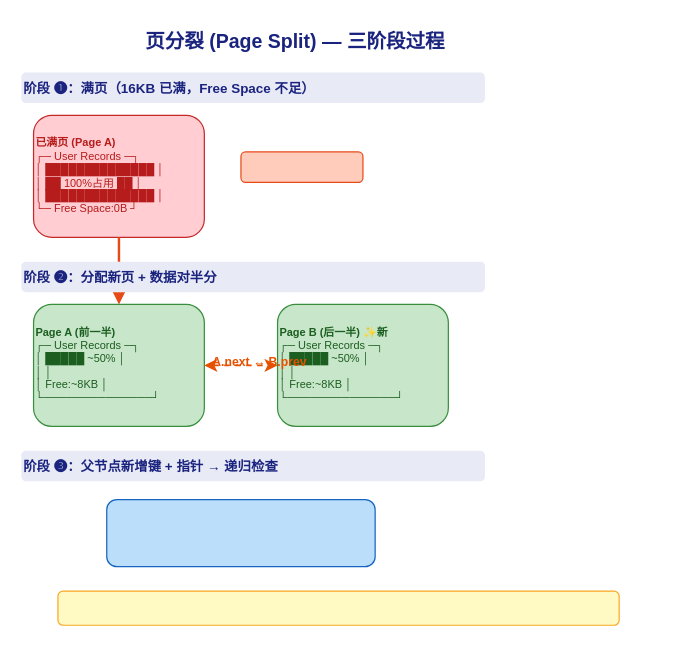
This 676x647 diagram has some shape labels left out. The shapes that lost their labels are listed below. From the top down, each one's box as (x1, y1, x2, y2) in pixels, then its label:
(240, 151, 363, 182): 写入新记录
(106, 498, 375, 567): 父节点 旧: [ ... | 指针A ] 新: [ ... | 指针A | 新键B | 指针B ]
(57, 590, 619, 625): ⚠ 父节点满了？→ 继续向上分裂，直到根。根满了 → 新根 + 树高+1
